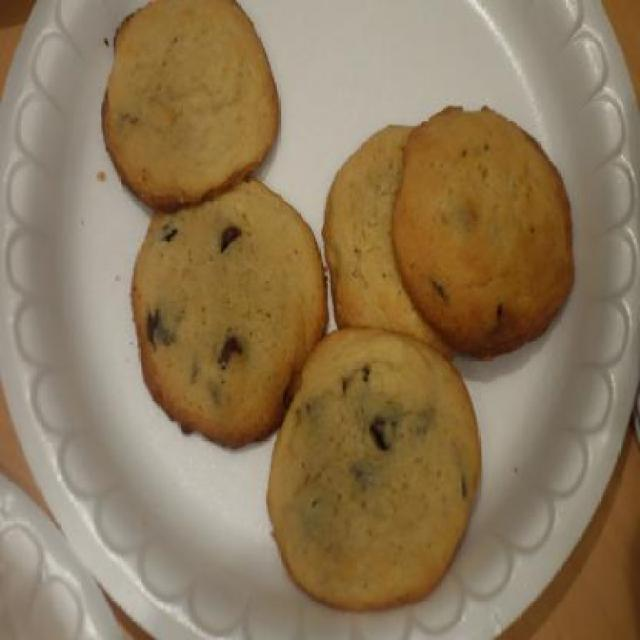Cookie: (268, 322, 484, 620), (127, 175, 330, 454), (390, 106, 574, 364), (99, 0, 280, 212), (325, 123, 461, 360)
